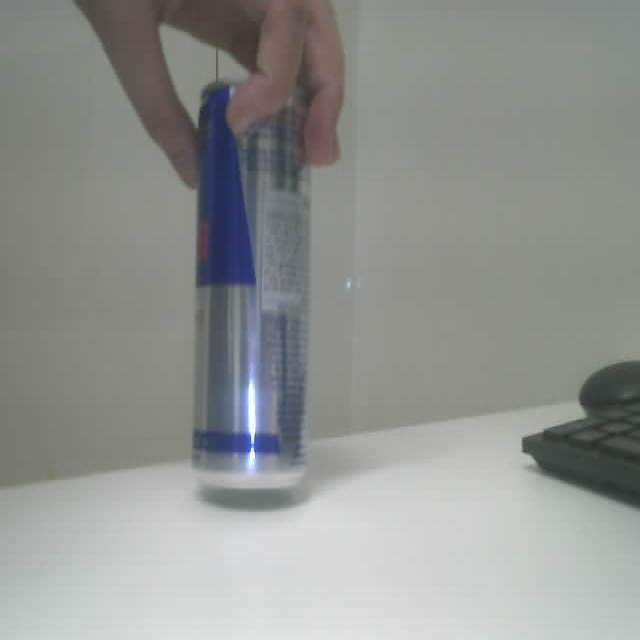redbull can: (193, 83, 309, 489)
